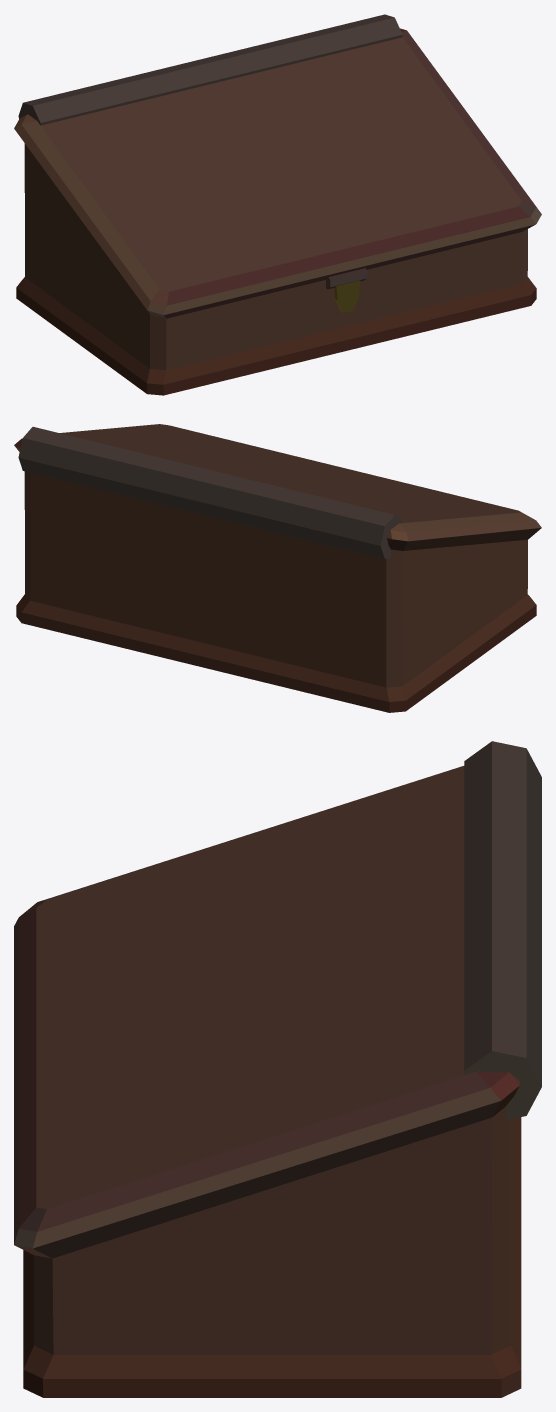
File: Furniture_CashRegister.fbx
3 renders of one model, top to bottom at view 1: azimuth 30°, elevation 25°; view 2: azimuth 150°, elevation 25°; view 3: azimuth 270°, elevation 25°, orthographic. The views are drawn at different scales.
Parts seen in each view (by area): view 1: Furniture_CashRegister; view 2: Furniture_CashRegister; view 3: Furniture_CashRegister.
Boxes of the visible parts, left/top/right/bottom form: Furniture_CashRegister: left=14, top=14, right=541, bottom=395; Furniture_CashRegister: left=14, top=424, right=541, bottom=712; Furniture_CashRegister: left=14, top=741, right=541, bottom=1397.
Size of the model in its own units: 46.75 by 21.66 by 30.92.
